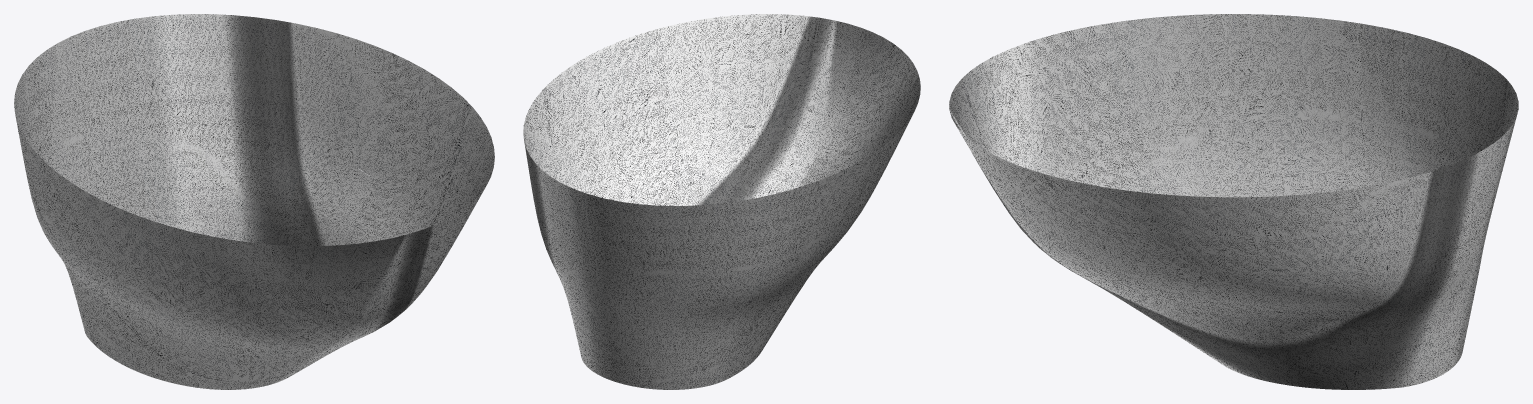
File: original-5.obj
The picture shows the model from 3 angles, left to right: view 1: azimuth 30°, elevation 25°; view 2: azimuth 150°, elevation 25°; view 3: azimuth 270°, elevation 25°; orthographic projection. The views are drawn at different scales.
Parts seen in each view (by area): view 1: Component_5_1/Component_5/mesh5/mesh5-geometry#mesh5-geometry; view 2: Component_5_1/Component_5/mesh5/mesh5-geometry#mesh5-geometry; view 3: Component_5_1/Component_5/mesh5/mesh5-geometry#mesh5-geometry.
Part boxes in pixels (x1,y1,x2,y2): Component_5_1/Component_5/mesh5/mesh5-geometry#mesh5-geometry: [14, 14, 494, 389]; Component_5_1/Component_5/mesh5/mesh5-geometry#mesh5-geometry: [523, 14, 920, 389]; Component_5_1/Component_5/mesh5/mesh5-geometry#mesh5-geometry: [949, 14, 1518, 389].
Size of the model in its own units: 0.5918 by 0.3644 by 0.7771.
